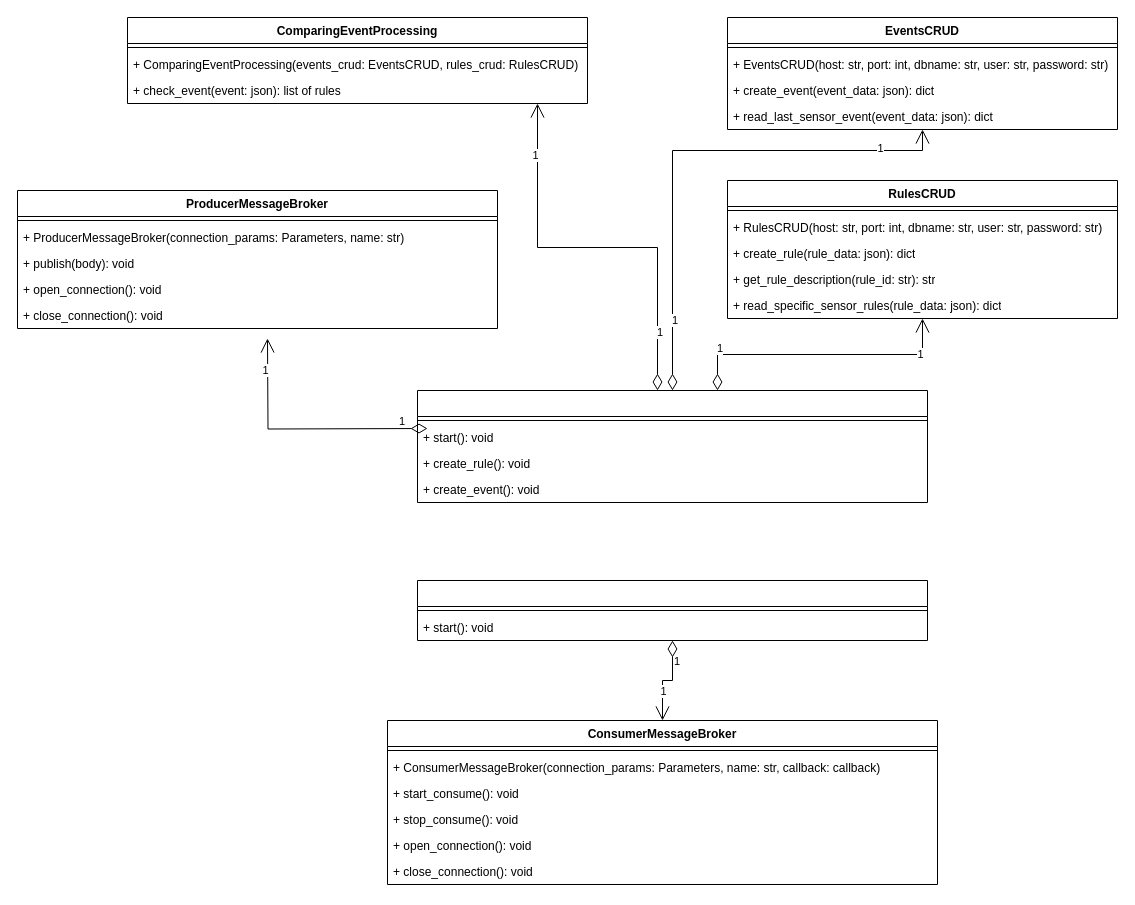
This 1135x905 diagram has some shape labels left out. Here are the shapes that lost their labels. From the top down, the box of each, then its label:
(416, 390, 928, 502): event_ingestion_microservice
(416, 580, 928, 640): alert_and_notification_microservice
